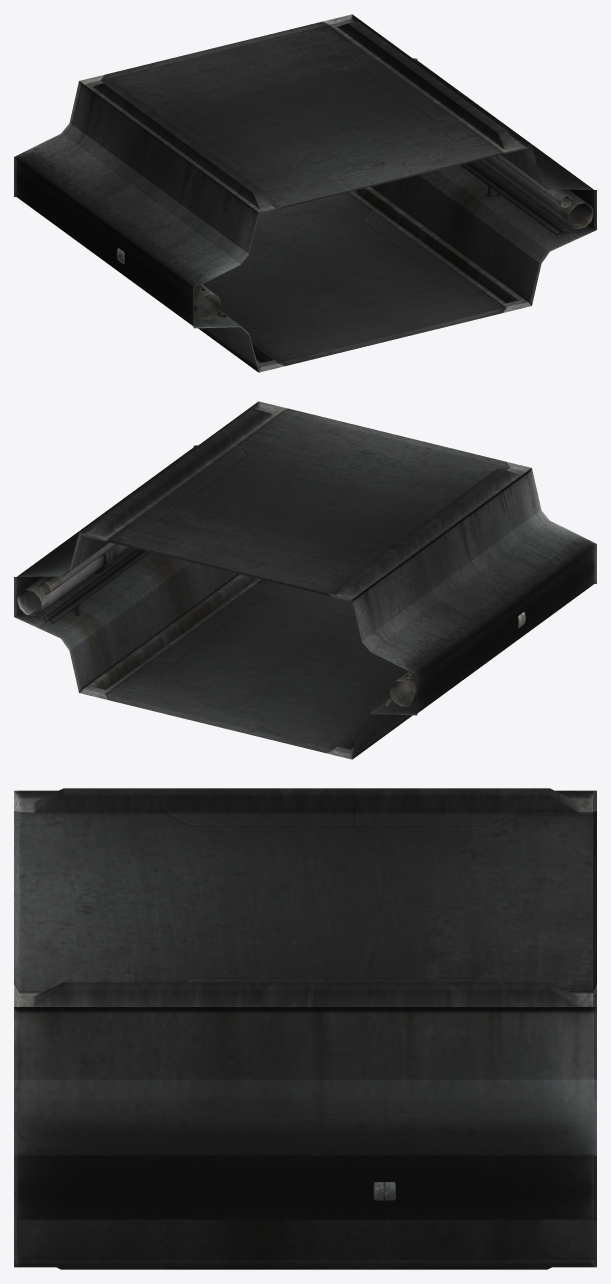
File: Shaft_System.fbx
The picture shows the model from 3 angles, top to bottom: view 1: azimuth 30°, elevation 25°; view 2: azimuth 150°, elevation 25°; view 3: azimuth 270°, elevation 25°; orthographic projection. The views are drawn at different scales.
Visible parts, largest first — view 1: Shaft_System; view 2: Shaft_System; view 3: Shaft_System.
Boxes of the visible parts, <box> form: Shaft_System: <box>14,14,596,372</box>; Shaft_System: <box>14,401,596,759</box>; Shaft_System: <box>14,788,596,1269</box>.
Bounding box in the file's own units: 130 × 52.98 × 100.
